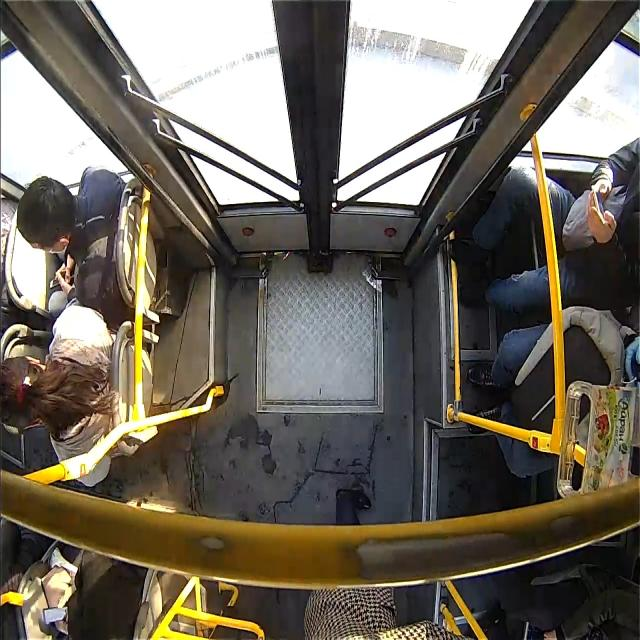bus-door: (1, 0, 638, 268)
